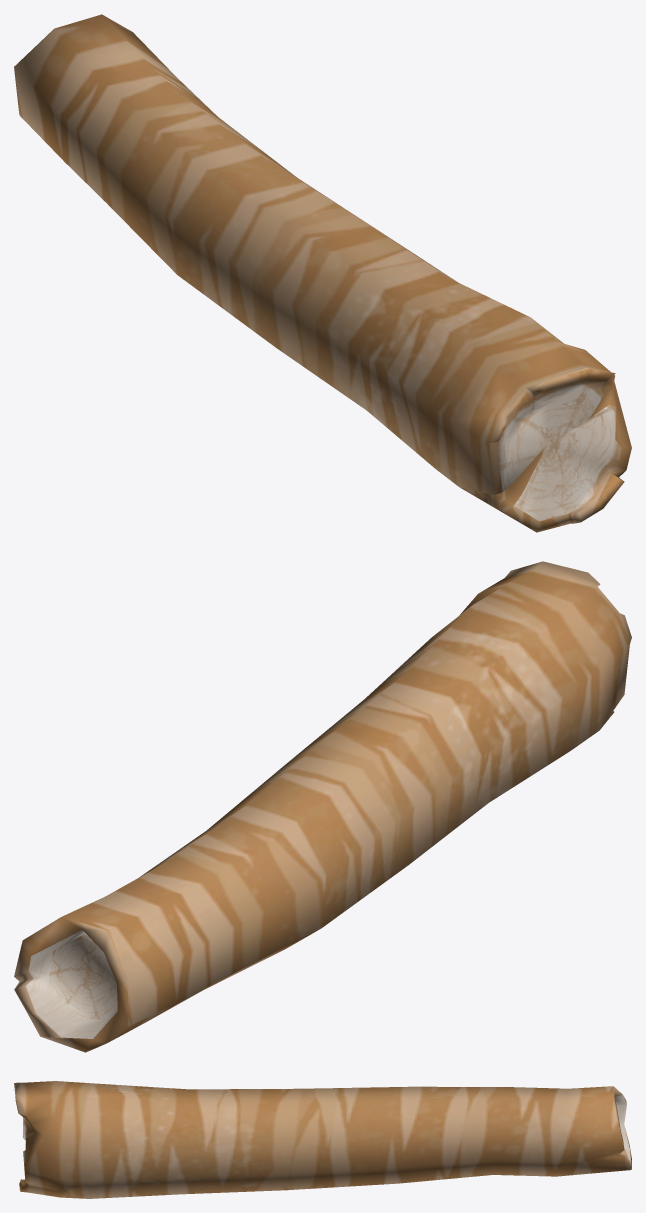
The model's file is P_CoconutPalmFallen01.obj.
The picture shows the model from 3 angles, top to bottom: view 1: azimuth 30°, elevation 25°; view 2: azimuth 150°, elevation 25°; view 3: azimuth 270°, elevation 25°; orthographic projection. The views are drawn at different scales.
Bounding box in the file's own units: 0.9444 × 0.9547 × 5.23.
